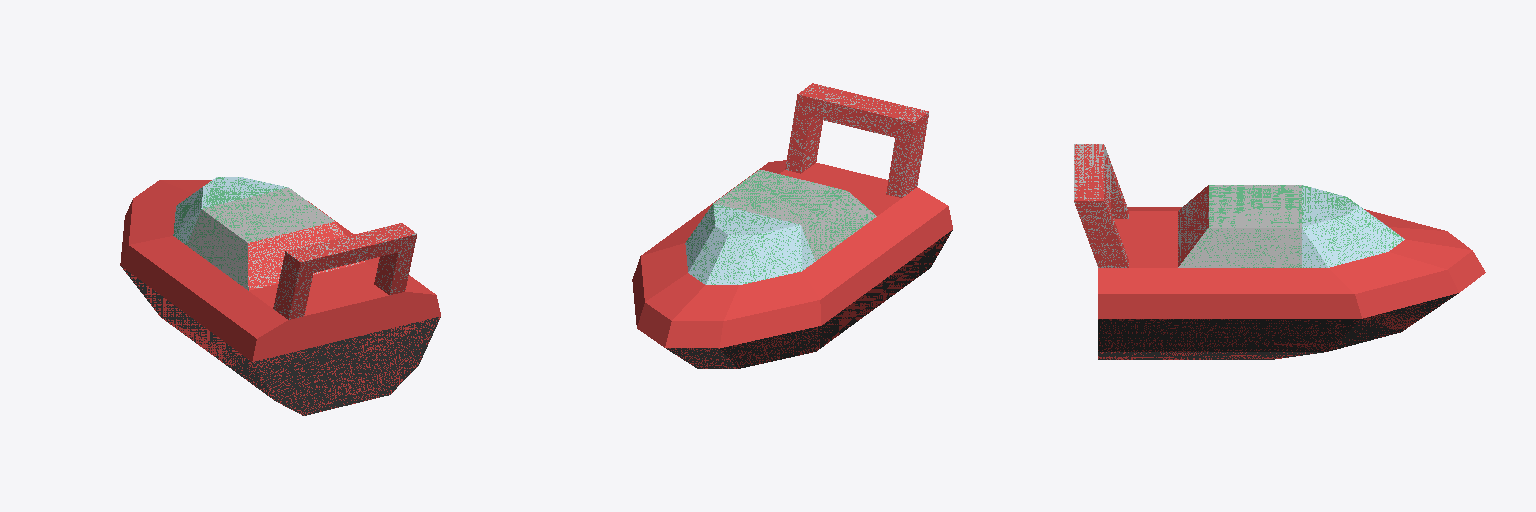
The model's file is boat_017.obj.
The picture shows the model from 3 angles: view 1: azimuth 30°, elevation 25°; view 2: azimuth 150°, elevation 25°; view 3: azimuth 270°, elevation 25°; orthographic projection.
Visible parts, largest first — view 1: boat_017; view 2: boat_017; view 3: boat_017.
Part boxes in pixels (x1,y1,x2,y2): boat_017: (120, 177, 440, 415); boat_017: (632, 83, 952, 368); boat_017: (1074, 144, 1485, 359).
Bounding box in the file's own units: 1.78 × 1.5 × 3.37.